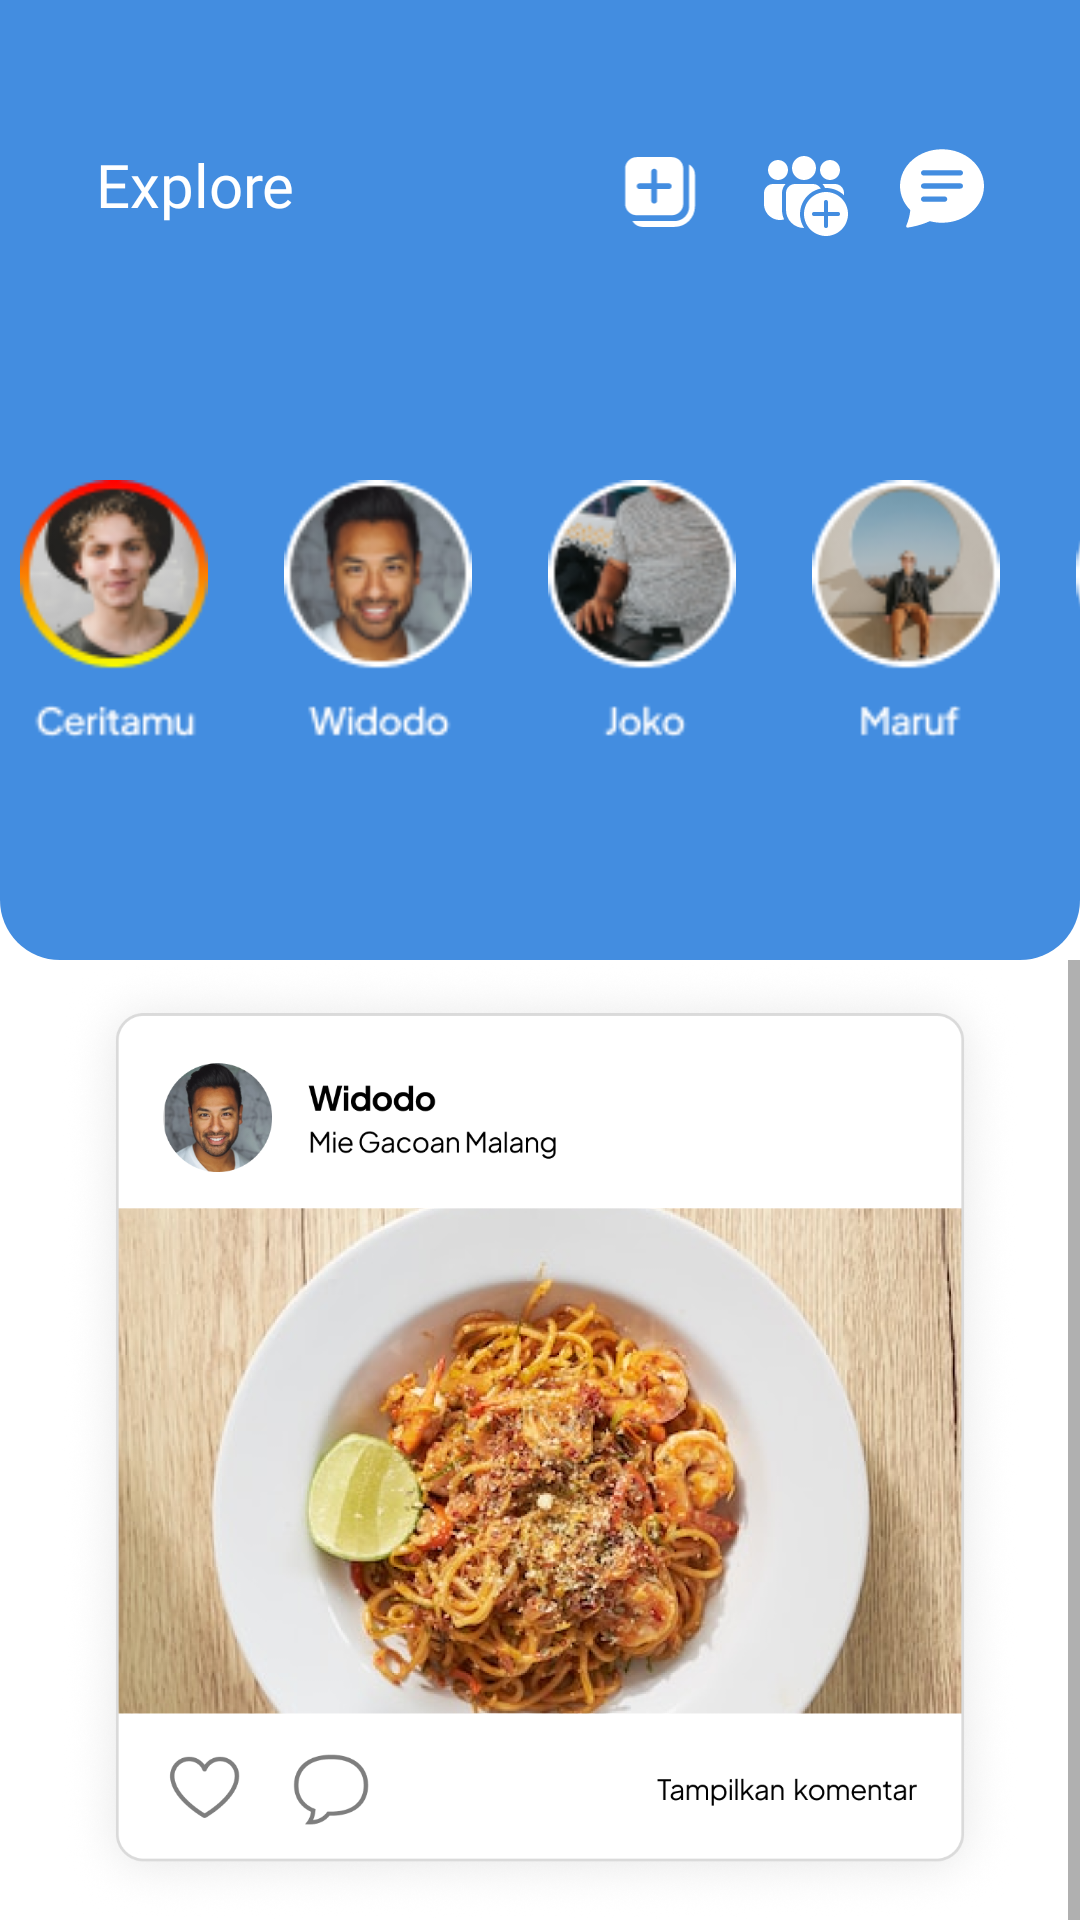

Locate icon controls on the screen. Image size 1080x1920, boxes as (x1, y1, x2, y2).
add friend: (764, 156, 848, 236)
add post: (625, 157, 696, 227)
chat: (900, 149, 984, 228)
